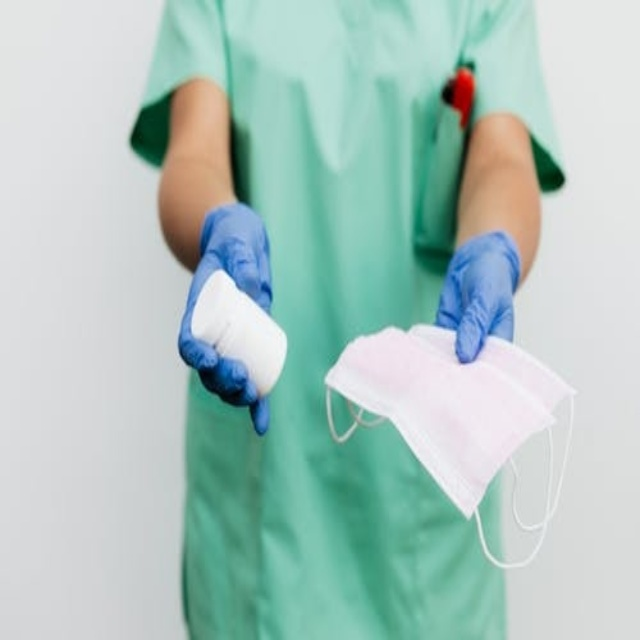Guantes: (179, 202, 278, 435), (433, 230, 522, 364)
Mascara: (323, 318, 575, 539)
